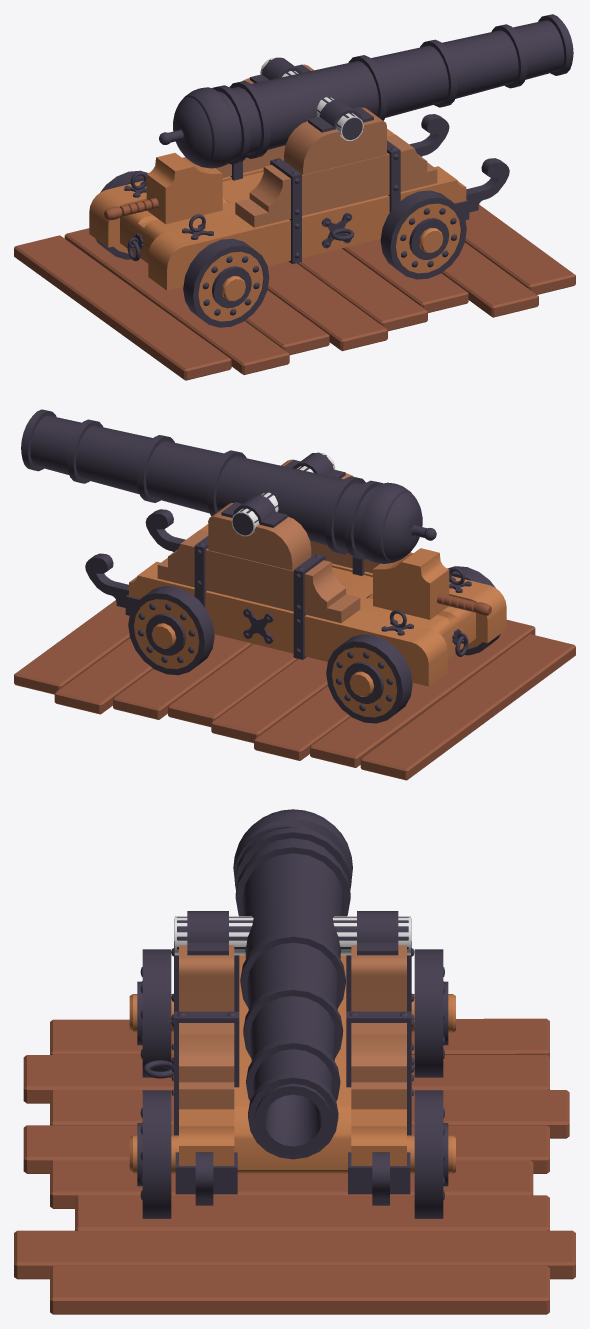
The model's file is Cannon.fbx.
3 views of the same model, one above another, from view 1: azimuth 30°, elevation 25°; view 2: azimuth 150°, elevation 25°; view 3: azimuth 270°, elevation 25° (orthographic). The views are drawn at different scales.
Parts seen in each view (by area): view 1: Plane.001, Cylinder.008, Cube.049, Cube.051, Cube.050, Cylinder.006, Cylinder.007, Sphere.009, Cube.052, Cube.053, Cylinder.022, Cylinder.013; view 2: Plane.001, Cylinder.008, Cube.049, Cube.051, Cube.050, Cylinder.006, Cylinder.007, Sphere.009, Cube.052, Cube.053, Cylinder.022, Cylinder.020 (+1 smaller); view 3: Plane.001, Cylinder.008, Cube.051, Cube.049, Cylinder.007, Cylinder.006, Cube.052, Cube.050, Cube.053, Sphere.009, Cylinder.005, Cylinder.013.
Part boxes in pixels (left/top/right/bottom): Plane.001: left=14, top=204, right=575, bottom=380; Cylinder.008: left=212, top=14, right=573, bottom=164; Cube.049: left=89, top=114, right=509, bottom=290; Cube.051: left=182, top=134, right=437, bottom=264; Cube.050: left=120, top=153, right=263, bottom=263; Cylinder.006: left=95, top=170, right=269, bottom=327; Cylinder.007: left=380, top=190, right=466, bottom=279; Sphere.009: left=159, top=87, right=240, bottom=168; Cube.052: left=242, top=64, right=386, bottom=174; Cube.053: left=250, top=57, right=373, bottom=132; Cylinder.022: left=104, top=198, right=158, bottom=220; Cylinder.013: left=262, top=59, right=362, bottom=139; Plane.001: left=14, top=600, right=575, bottom=780; Cylinder.008: left=21, top=409, right=382, bottom=559; Cube.049: left=85, top=509, right=506, bottom=686; Cube.051: left=157, top=530, right=413, bottom=659; Cube.050: left=332, top=548, right=475, bottom=658; Cylinder.006: left=326, top=566, right=500, bottom=723; Cylinder.007: left=128, top=586, right=214, bottom=675; Sphere.009: left=360, top=482, right=436, bottom=563; Cube.052: left=208, top=459, right=353, bottom=570; Cube.053: left=221, top=452, right=345, bottom=527; Cylinder.022: left=437, top=593, right=491, bottom=615; Cylinder.020: left=243, top=608, right=273, bottom=643; Plane.001: left=14, top=1018, right=575, bottom=1314; Cylinder.008: left=234, top=827, right=351, bottom=1159; Cube.051: left=174, top=941, right=411, bottom=1135; Cube.049: left=175, top=1109, right=410, bottom=1205; Cylinder.007: left=129, top=1090, right=455, bottom=1218; Cylinder.006: left=129, top=949, right=455, bottom=1077; Cube.052: left=179, top=945, right=406, bottom=1011; Cube.050: left=234, top=955, right=351, bottom=1169; Cube.053: left=187, top=911, right=398, bottom=955; Sphere.009: left=233, top=809, right=352, bottom=879; Cylinder.005: left=174, top=916, right=410, bottom=955; Cylinder.013: left=174, top=917, right=411, bottom=952.
Bounding box in the file's own units: 332 × 141 × 240.
